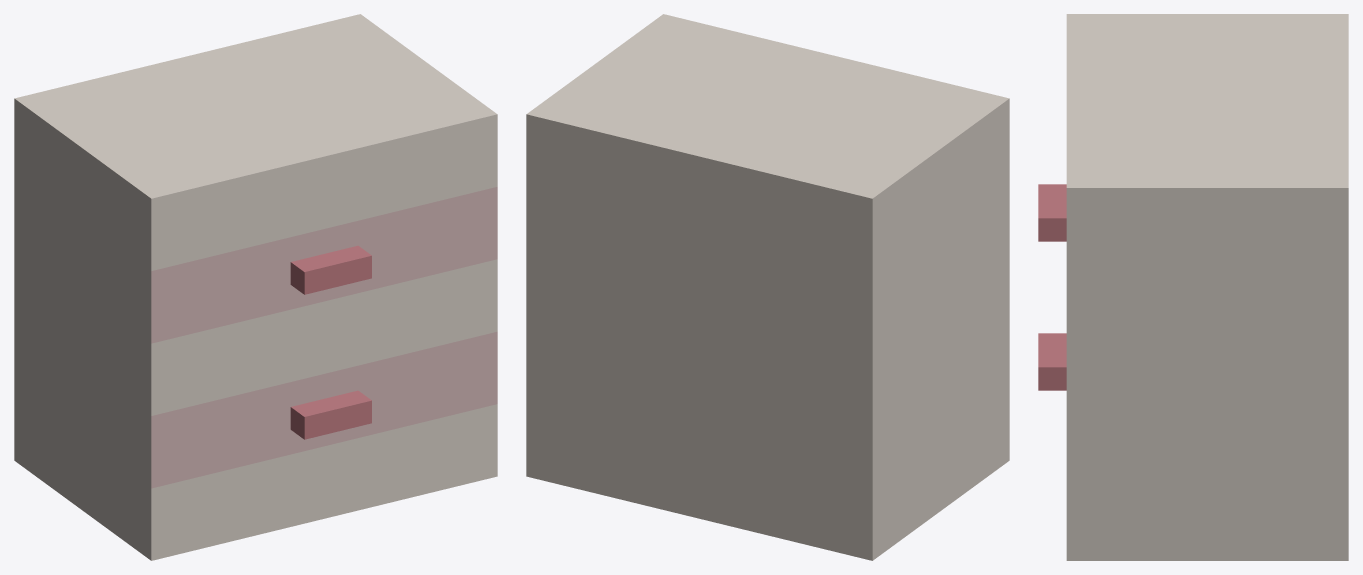
File: cekmeceler.fbx
3 renders of one model, left to right at view 1: azimuth 30°, elevation 25°; view 2: azimuth 150°, elevation 25°; view 3: azimuth 270°, elevation 25°, orthographic. The views are drawn at different scales.
Visible parts, largest first — view 1: Cube.001; view 2: Cube.001; view 3: Cube.001.
Part boxes in pixels (x1,y1,x2,y2): Cube.001: [14, 14, 497, 560]; Cube.001: [526, 14, 1009, 560]; Cube.001: [1038, 14, 1348, 560].
Size of the model in its own units: 161 by 161 by 122.
